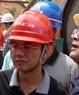hard-hat: (7, 9, 55, 45)
